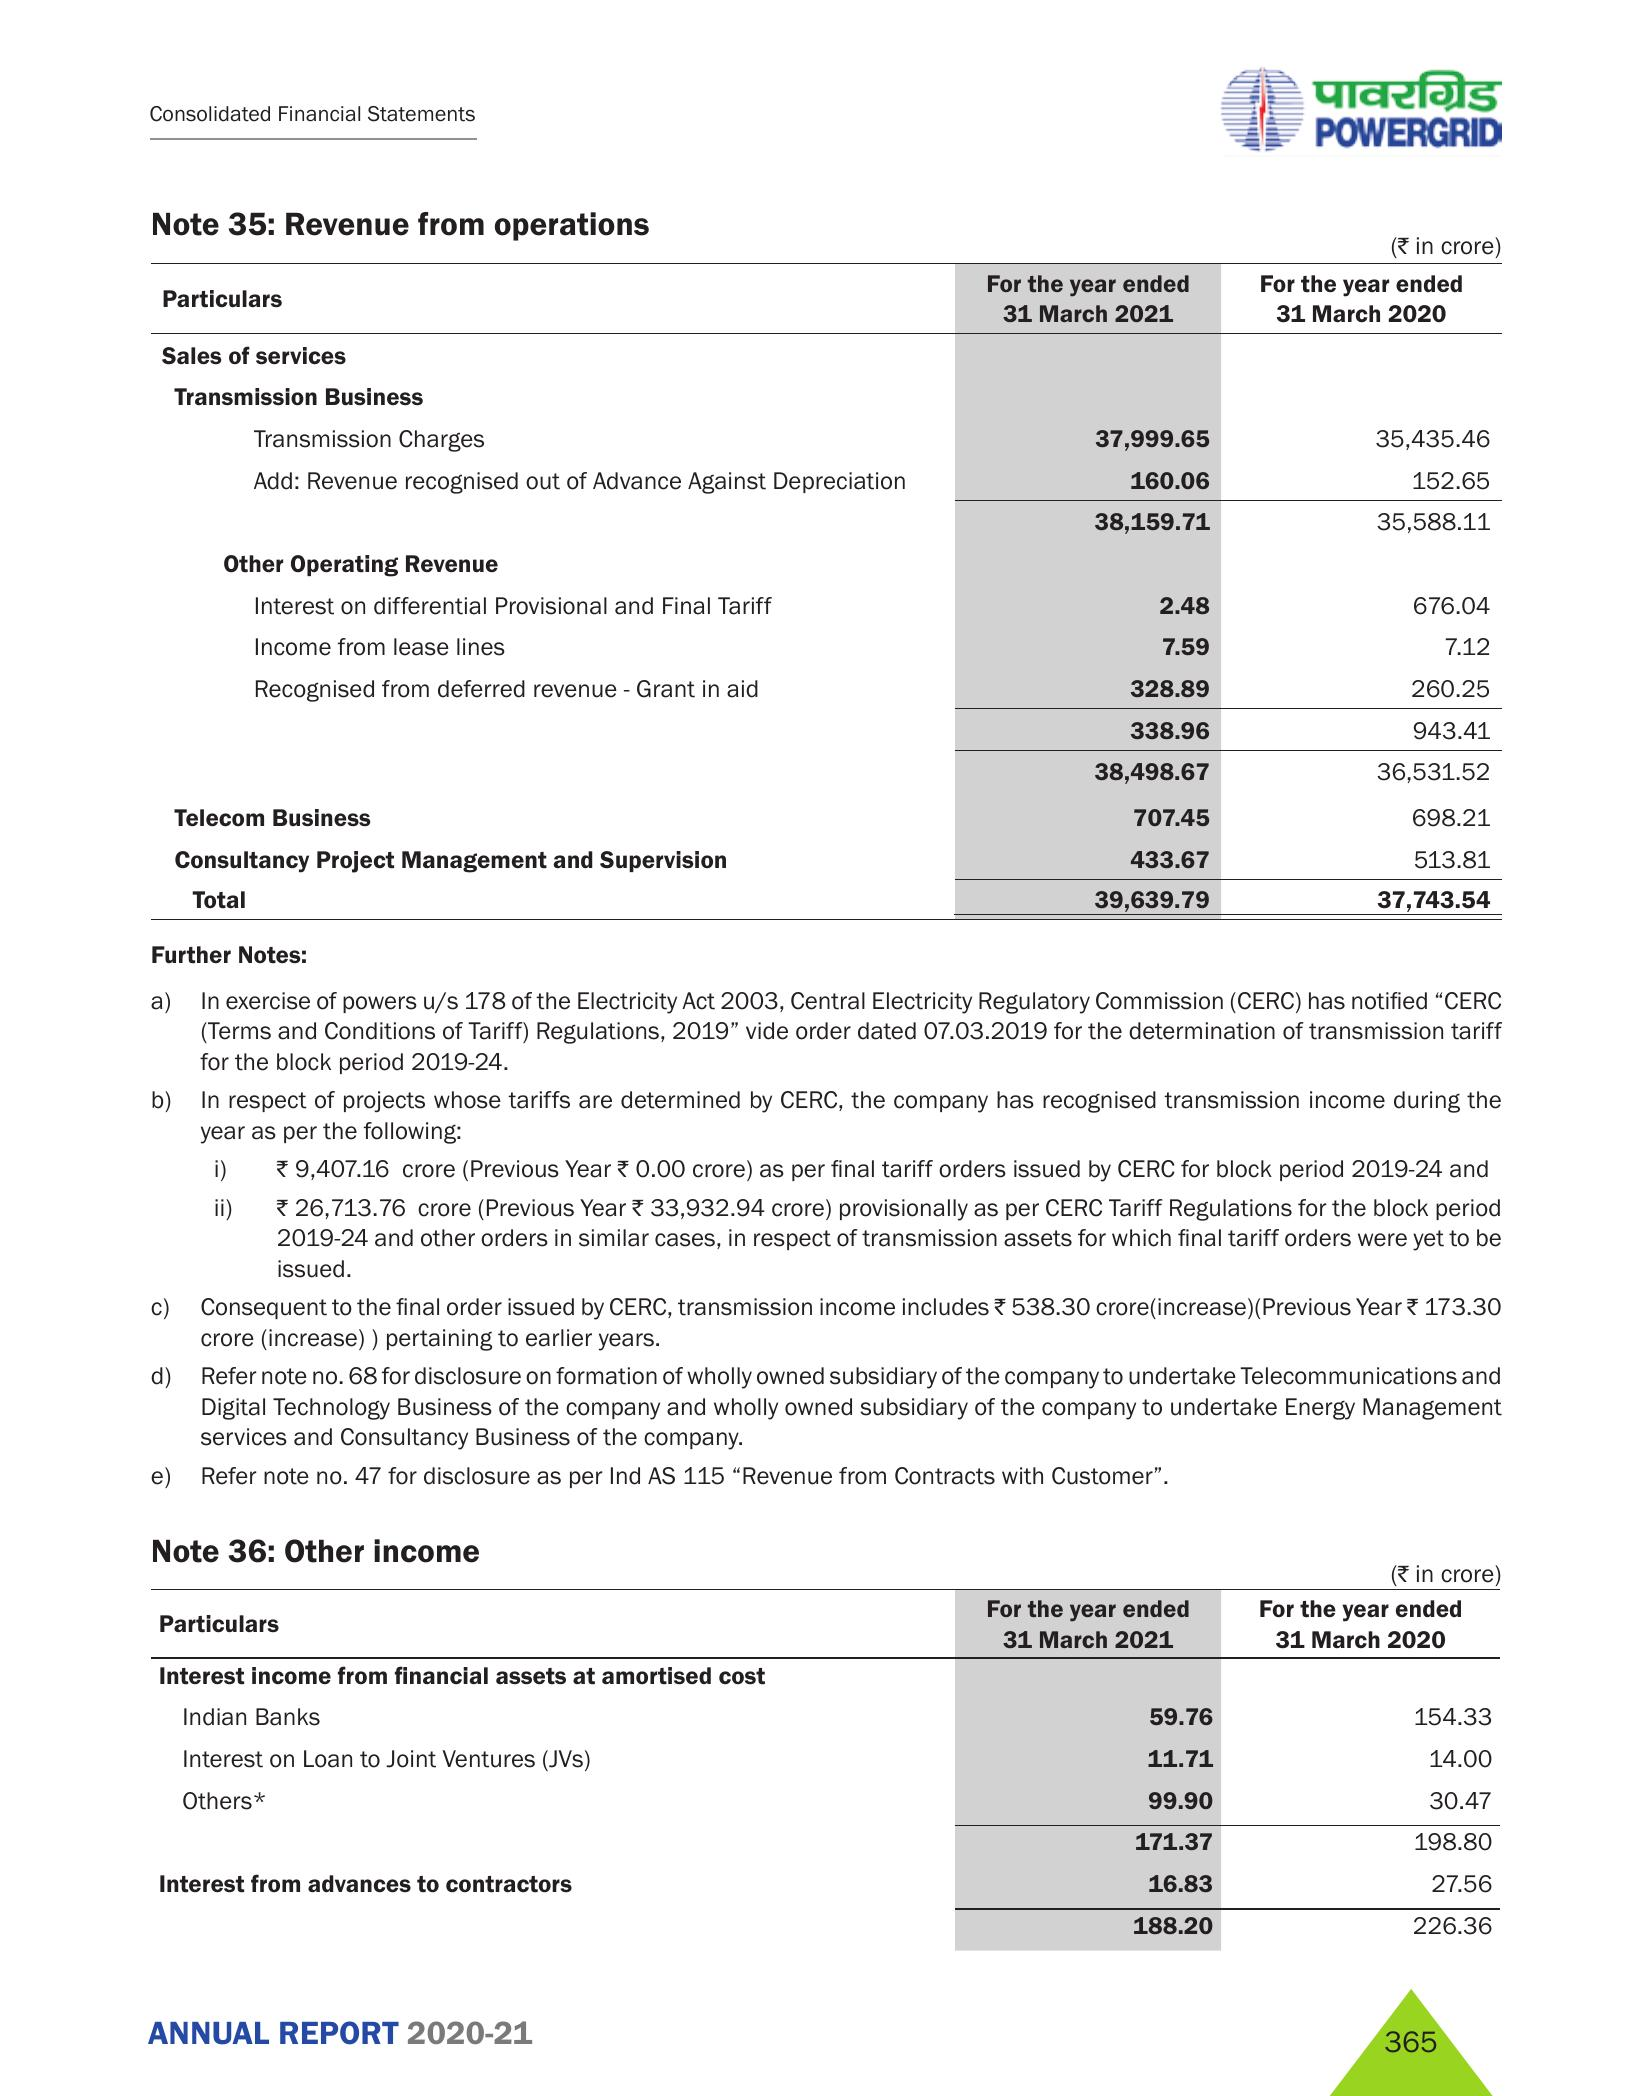Footer: (9, 1950, 1650, 2096)
Header: (0, 0, 1650, 172)
Table: (105, 265, 1539, 915), (99, 1586, 1536, 1950)
